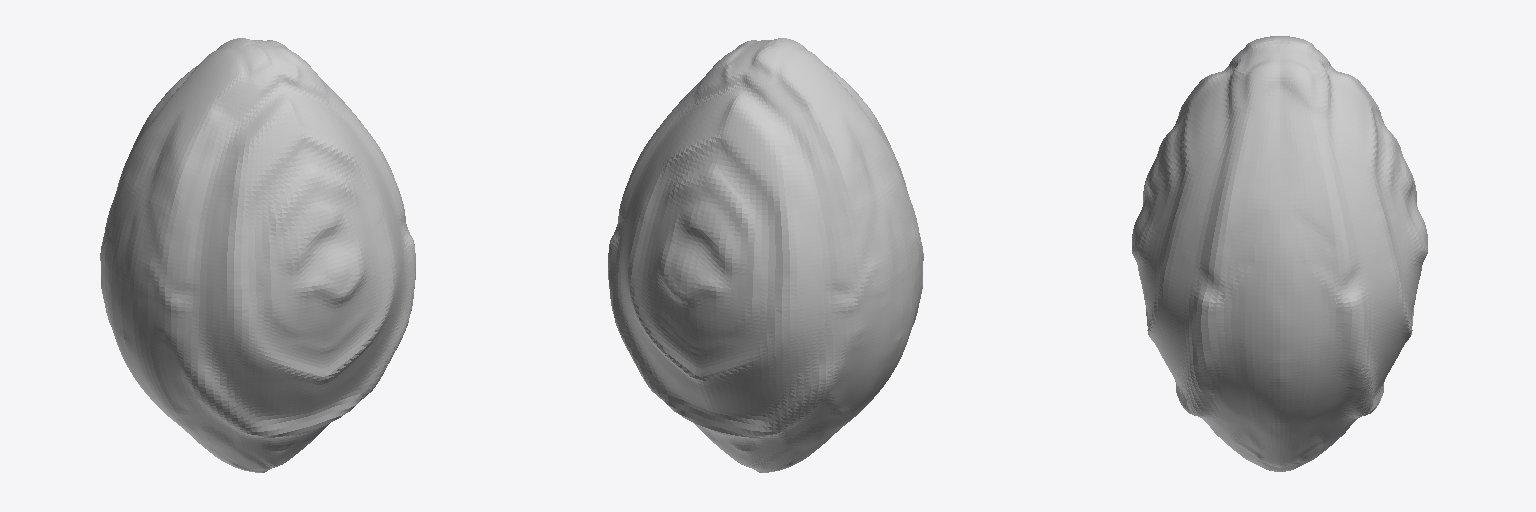
The model's file is dragonEgg.obj.
3 views of the same model, side by side, from view 1: azimuth 30°, elevation 25°; view 2: azimuth 150°, elevation 25°; view 3: azimuth 270°, elevation 25° (orthographic).
Visible parts, largest first — view 1: Earth_Dragon_Egg_Sphere; view 2: Earth_Dragon_Egg_Sphere; view 3: Earth_Dragon_Egg_Sphere.
Boxes of the visible parts, box(x1,y1,x2,y2) form: Earth_Dragon_Egg_Sphere: box(100, 38, 415, 472); Earth_Dragon_Egg_Sphere: box(608, 38, 923, 472); Earth_Dragon_Egg_Sphere: box(1132, 36, 1427, 471).
Size of the model in its own units: 0.2647 by 0.4001 by 0.252.